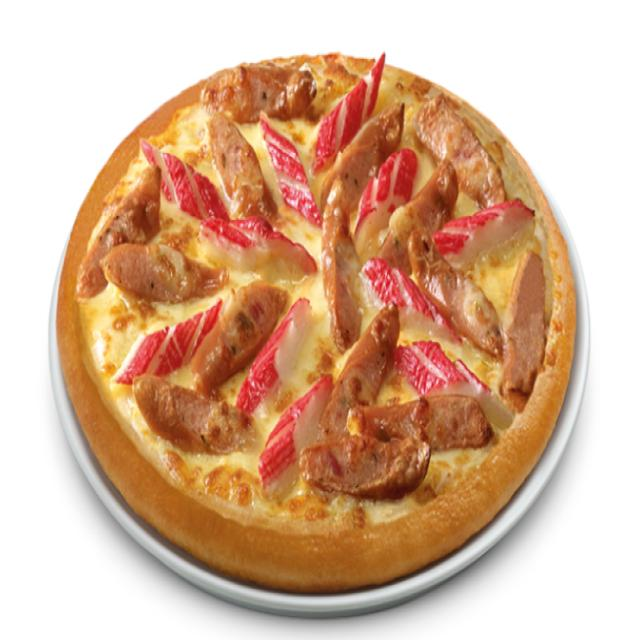Pizza with crab sticks and crab cocktail: (110, 157, 504, 538)
